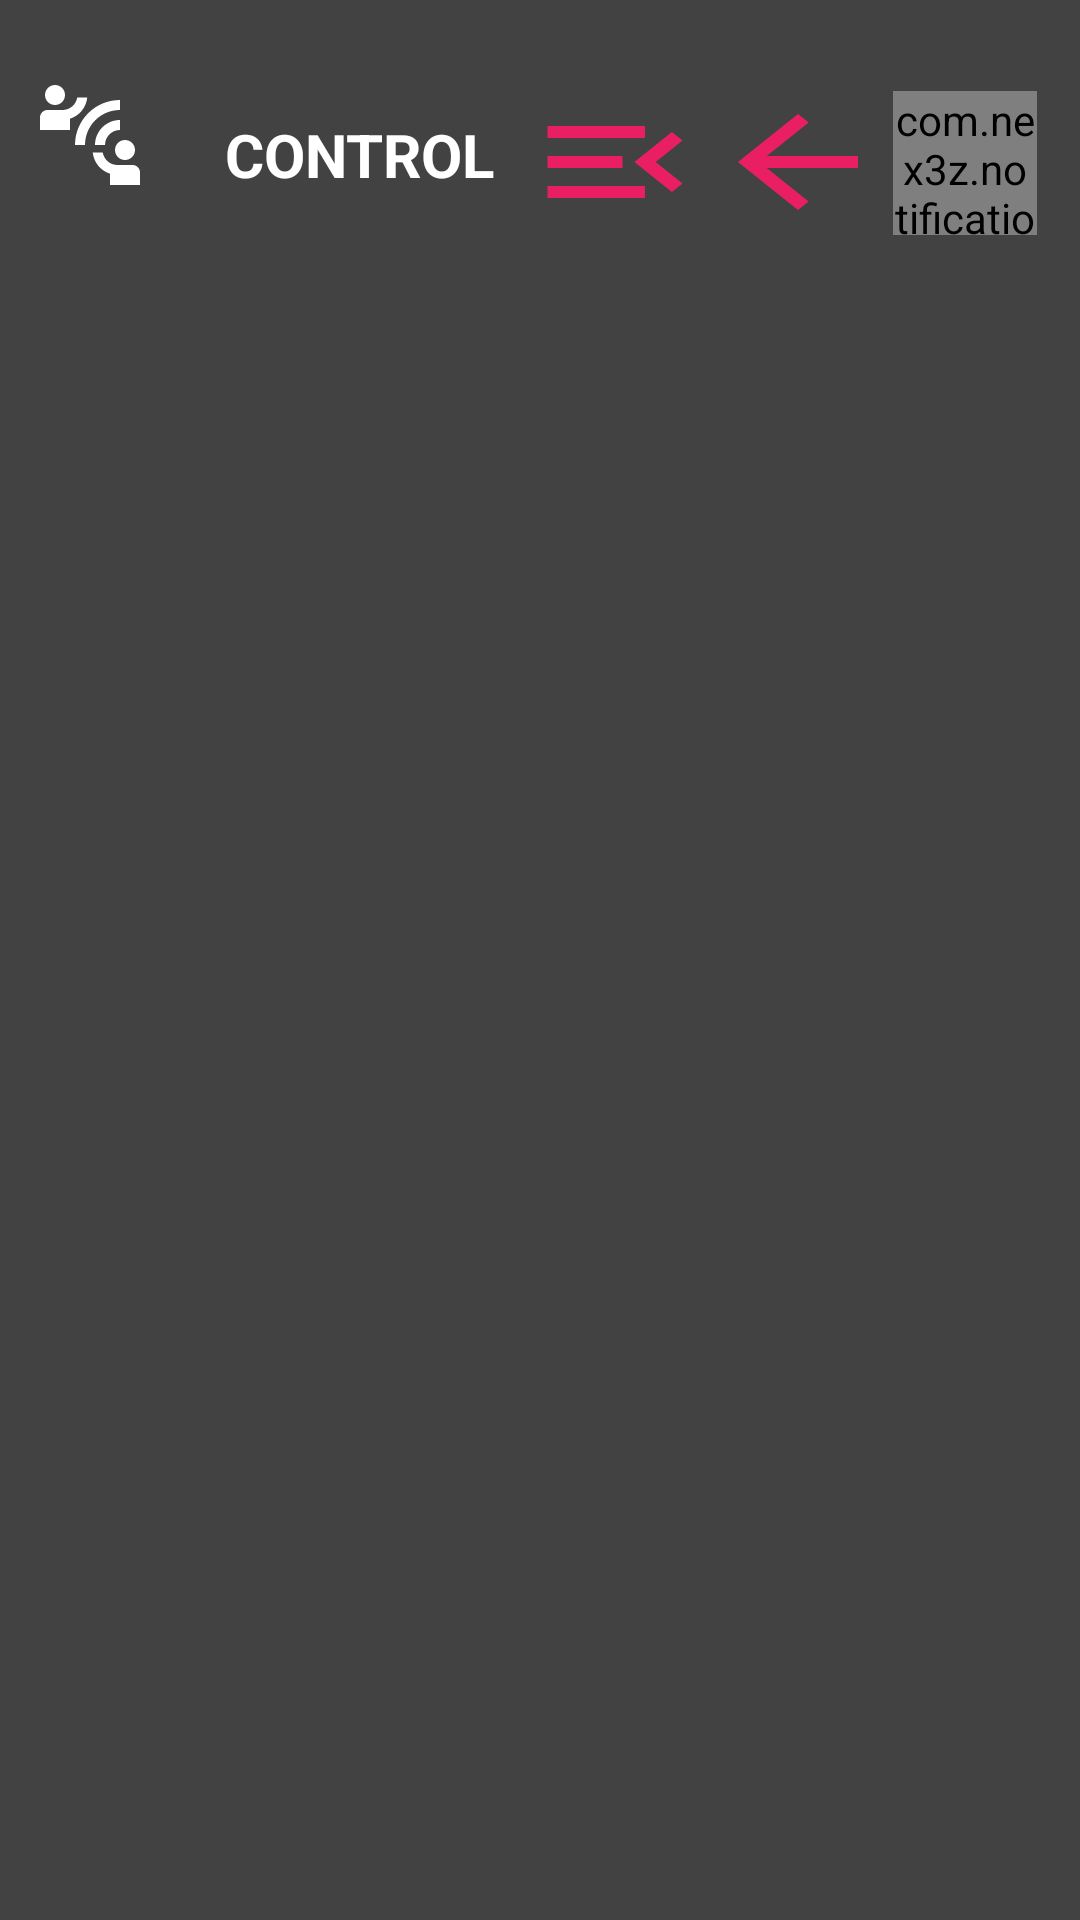

Screen size 1080px x 1920px. Icon name, then its box in pixels as (x1, y1, x2, y2):
arrow back: (738, 114, 858, 210)
menu: (547, 126, 683, 198)
